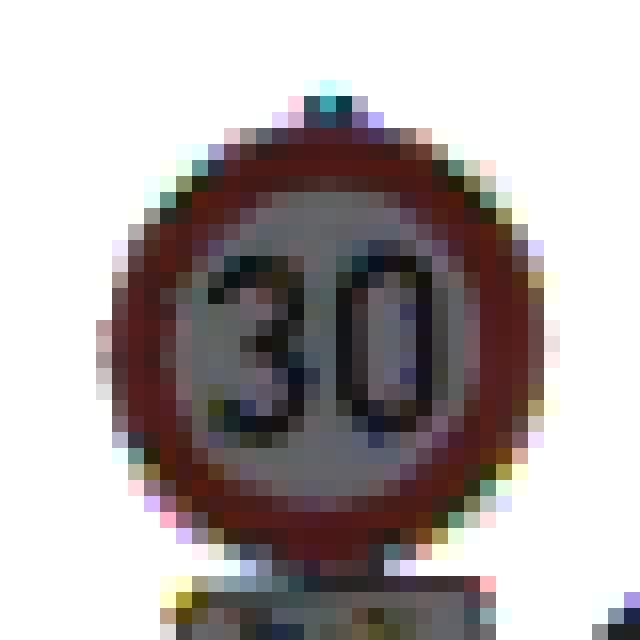Speed Limit -30-: (72, 72, 536, 552)
